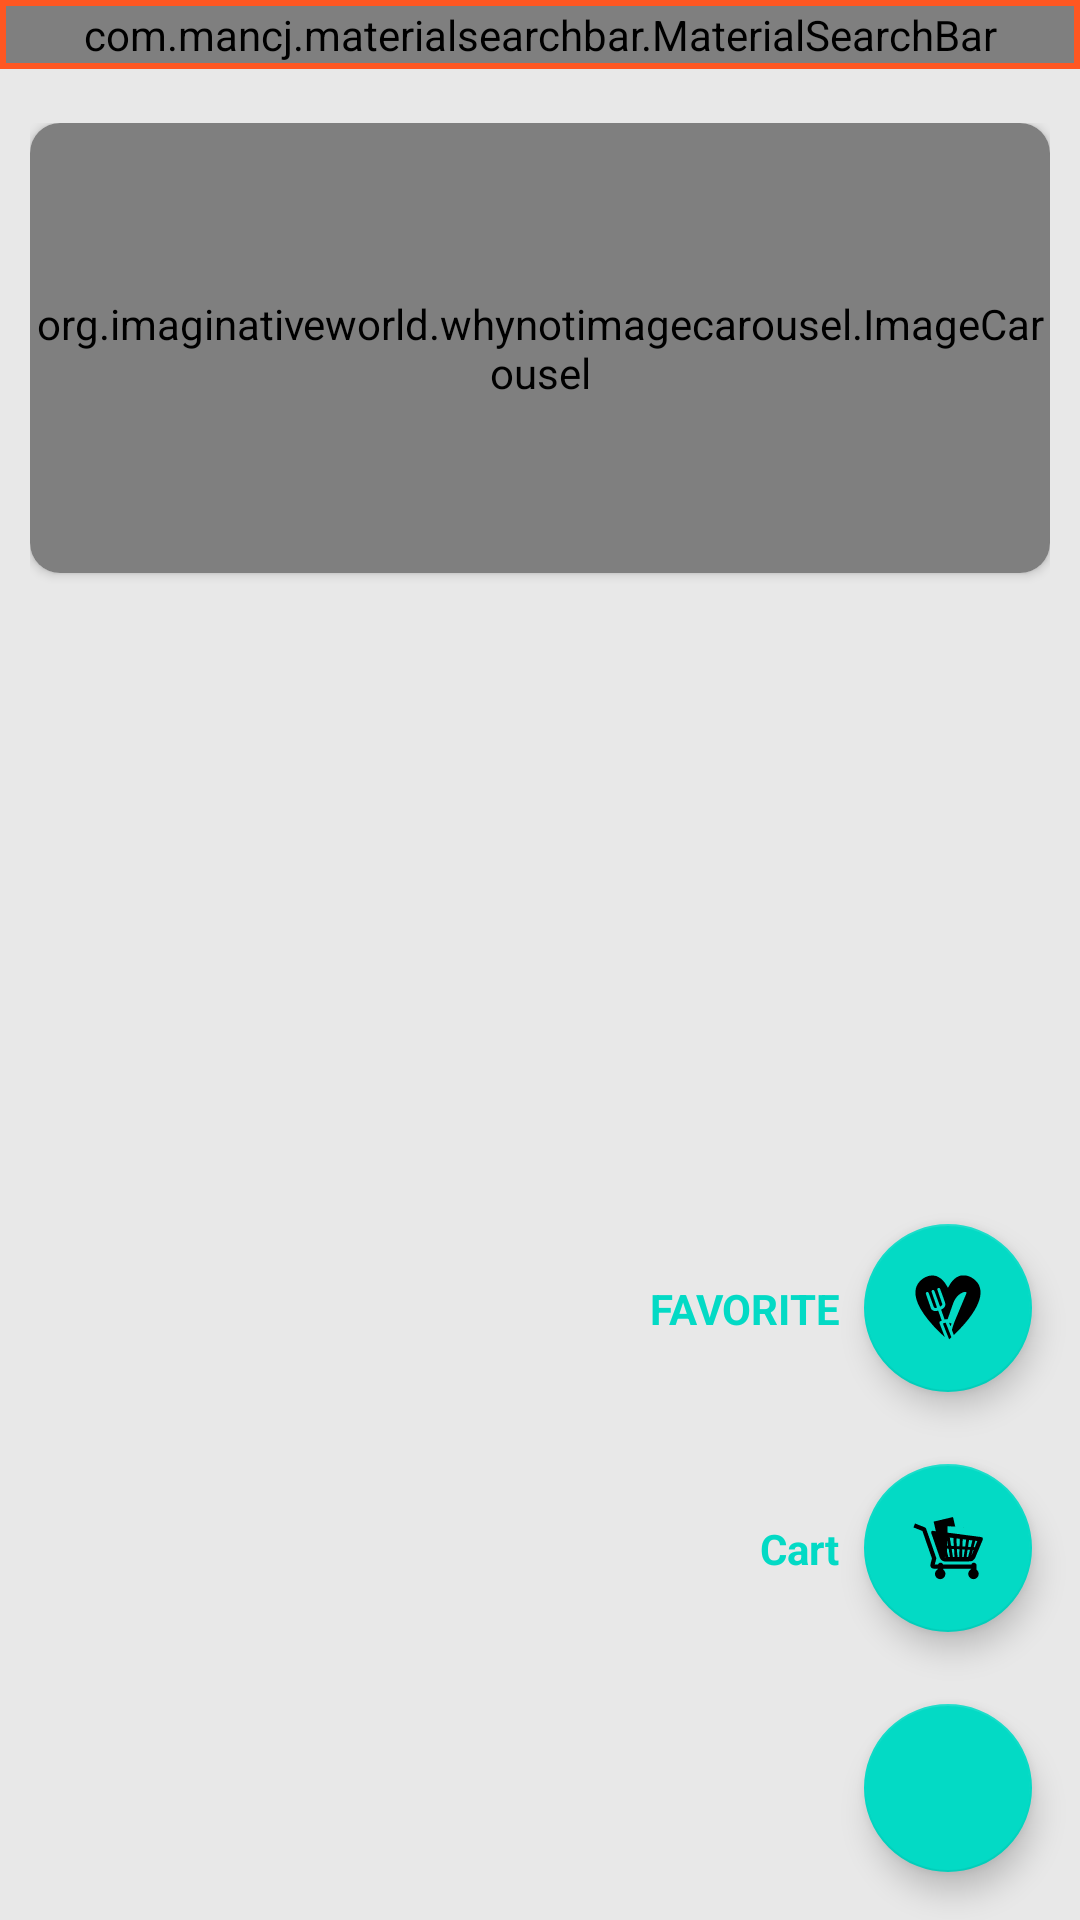

Icons on this 1080*1920 Android screen, each with its box as [left=x1, top=y1, right=x2, bottom=y2]:
love: [left=864, top=1224, right=1032, bottom=1392]
